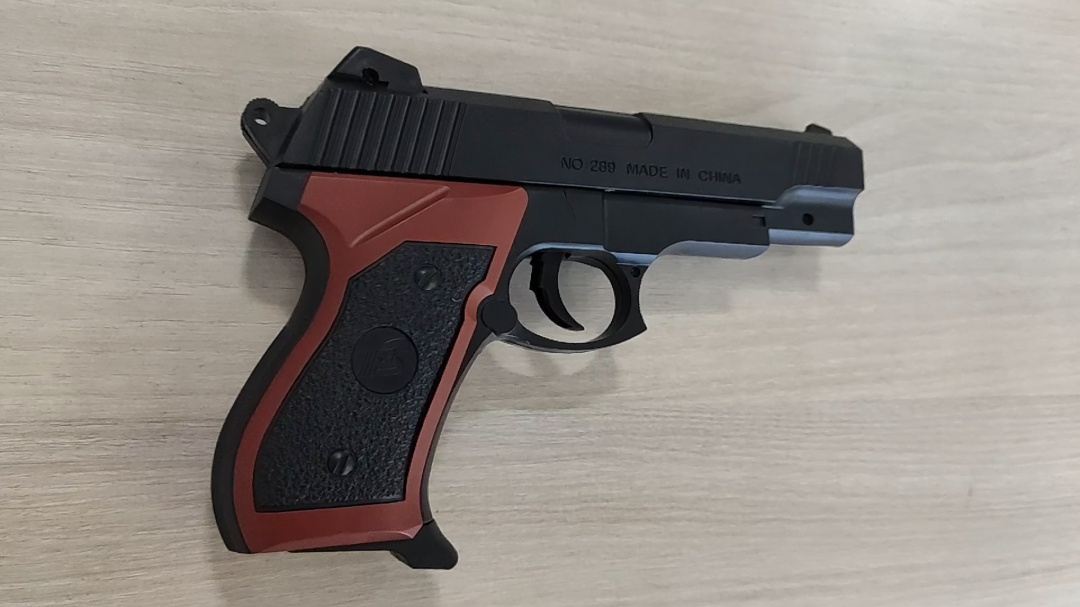gun: (602, 218, 764, 285)
